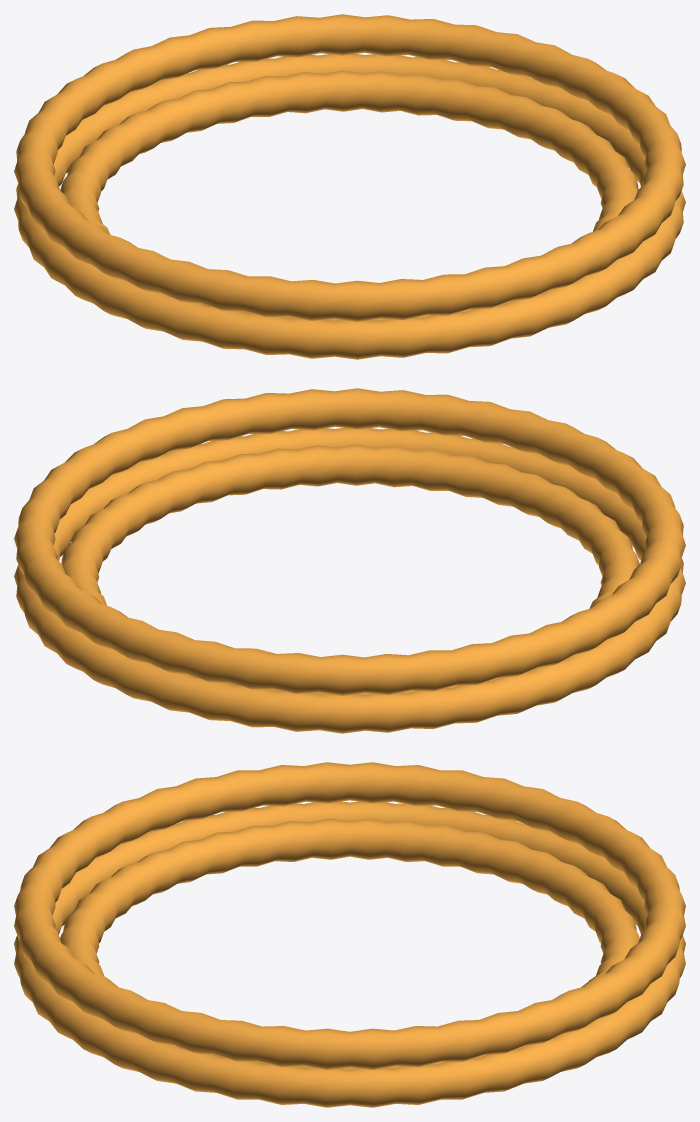
Rendered from ELE-ELD-002.glb.
3 views of the same model, one above another, from view 1: azimuth 30°, elevation 25°; view 2: azimuth 150°, elevation 25°; view 3: azimuth 270°, elevation 25° (orthographic).
Visible parts, largest first — view 1: ELE-ELD-002_volta2, ELE-ELD-002_volta0, ELE-ELD-002_volta1; view 2: ELE-ELD-002_volta2, ELE-ELD-002_volta0, ELE-ELD-002_volta1; view 3: ELE-ELD-002_volta2, ELE-ELD-002_volta0, ELE-ELD-002_volta1.
Part boxes in pixels (box(x1,y1,x2,y2)): ELE-ELD-002_volta2: box(14, 14, 685, 321); ELE-ELD-002_volta0: box(14, 54, 685, 359); ELE-ELD-002_volta1: box(60, 70, 638, 321); ELE-ELD-002_volta2: box(14, 388, 685, 695); ELE-ELD-002_volta0: box(14, 428, 685, 733); ELE-ELD-002_volta1: box(61, 444, 639, 695); ELE-ELD-002_volta2: box(14, 762, 685, 1069); ELE-ELD-002_volta0: box(14, 801, 685, 1107); ELE-ELD-002_volta1: box(60, 818, 639, 1069).
Size of the model in its own units: 0.5316 by 0.0644 by 0.5316.
